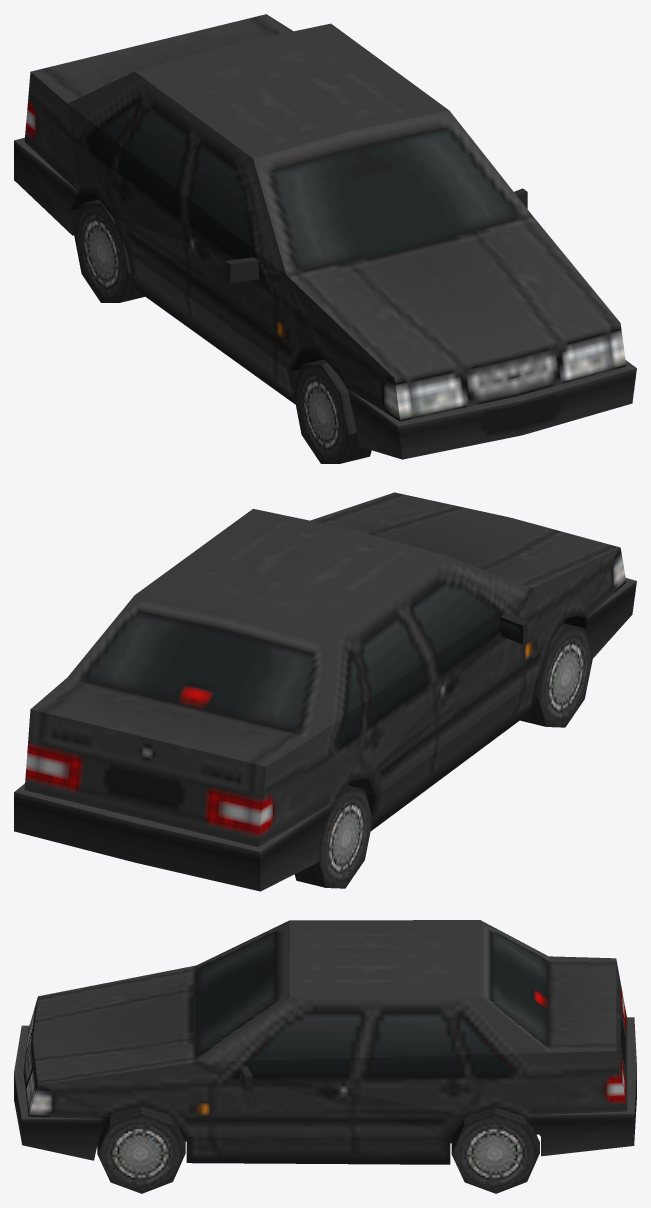
The model's file is Auto3gris.fbx.
3 renders of one model, top to bottom at view 1: azimuth 30°, elevation 25°; view 2: azimuth 150°, elevation 25°; view 3: azimuth 270°, elevation 25°, orthographic. The views are drawn at different scales.
Parts seen in each view (by area): view 1: Car2; view 2: Car2; view 3: Car2.
Boxes of the visible parts, x1,y1,x2,y2 form: Car2: (14,14,636,463); Car2: (14,492,636,891); Car2: (14,920,636,1193).
Bounding box in the file's own units: 290 × 220 × 653.
